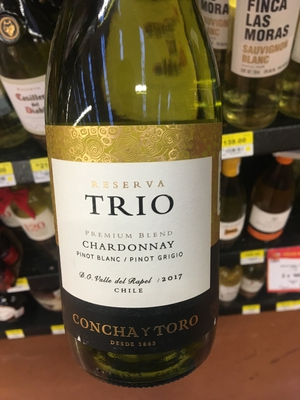trio chardonnay: (40, 35, 245, 375)
